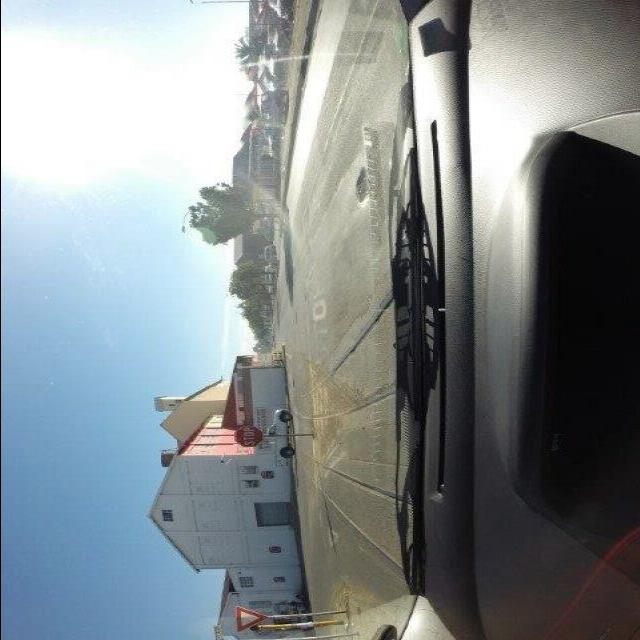lubang: (347, 166, 377, 209)
